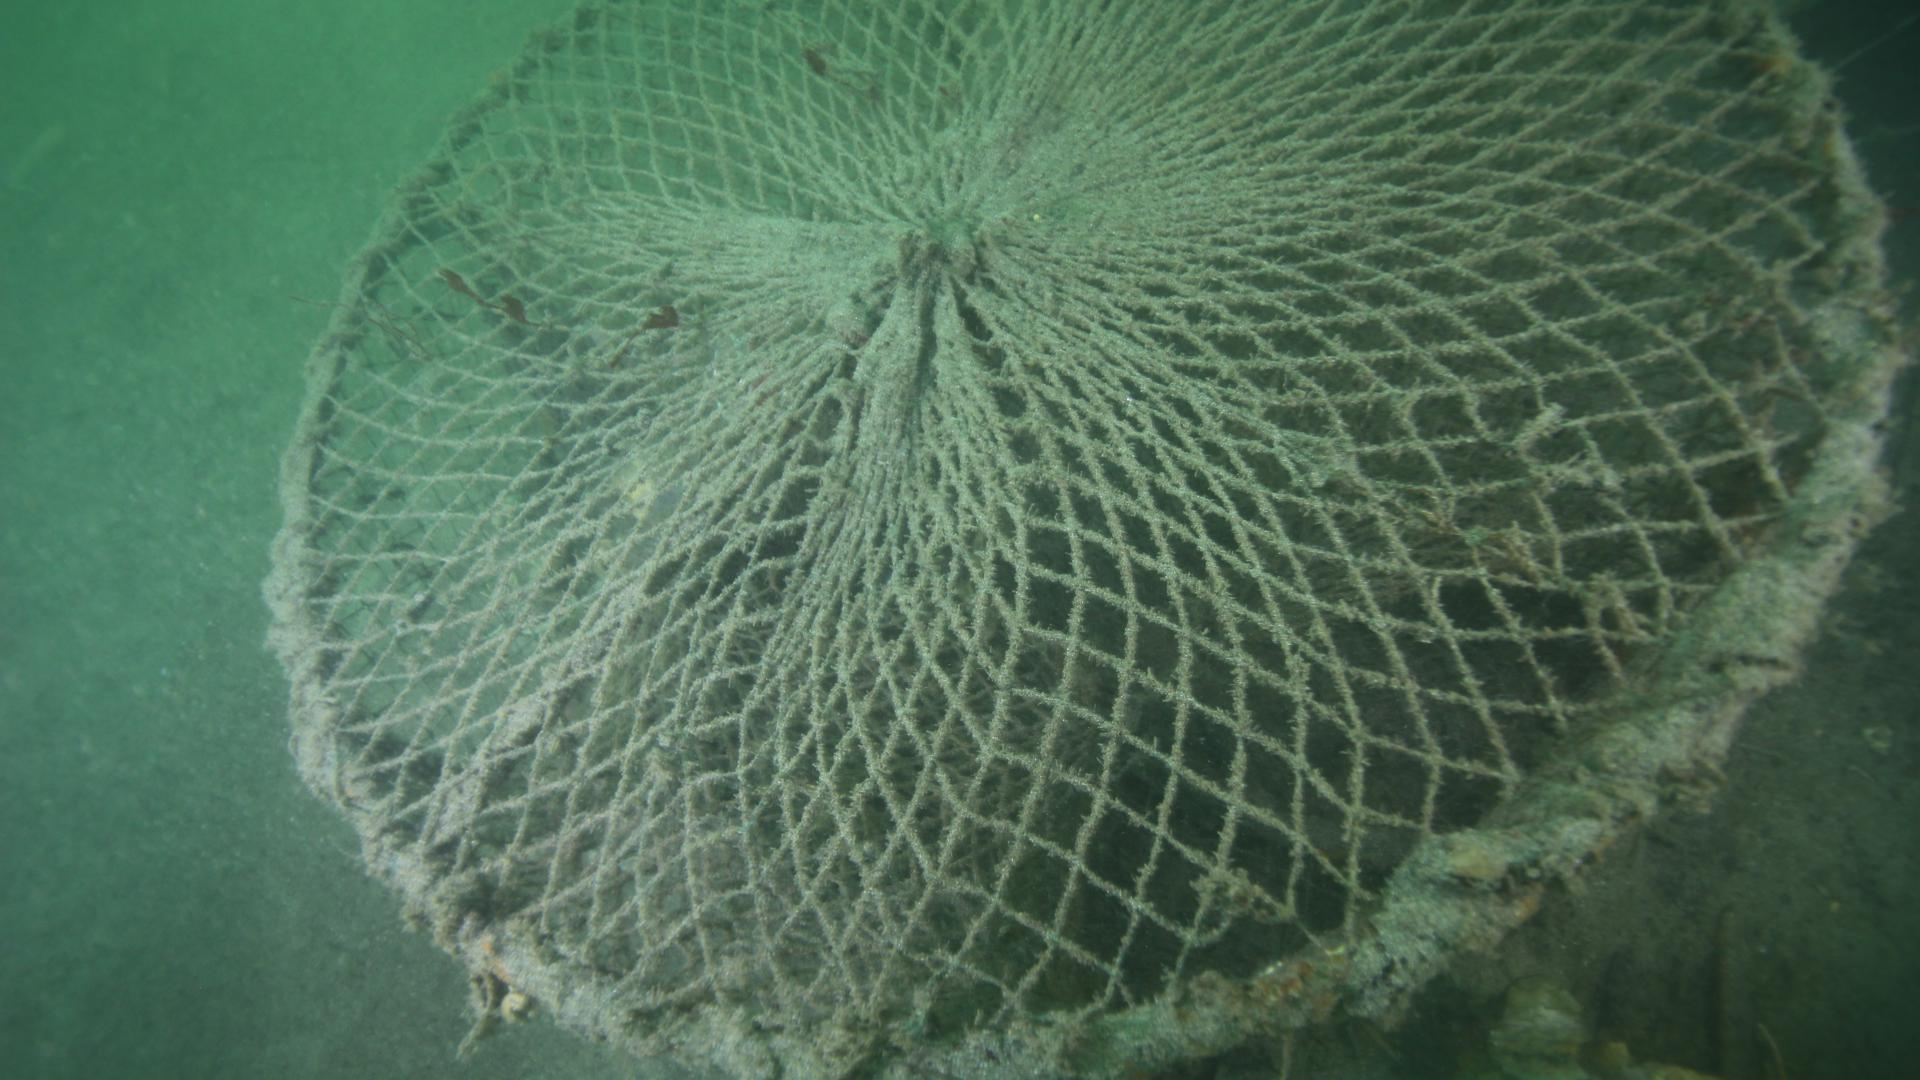circular fish trap: (280, 0, 1905, 1080)
